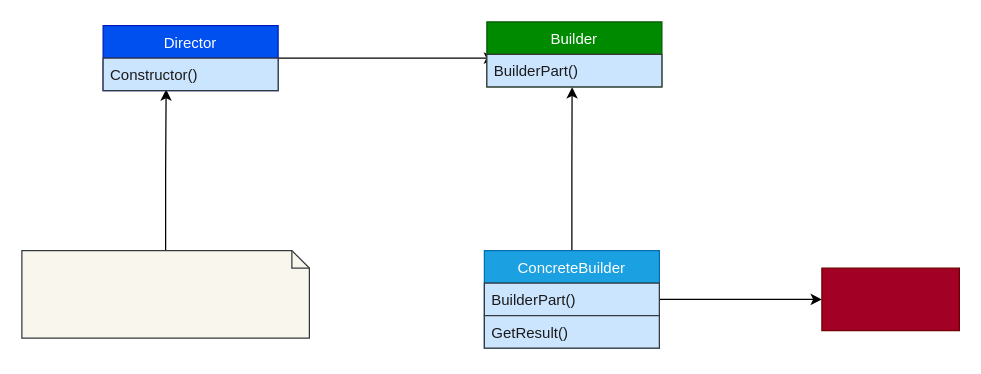
The diagram is 981 pixels wide and 374 high, and some of its shapes have lost their labels. Each missing label, with the centre of its shape:
"For all objects in structure { builder -> BuilderPart() }" goes at [165,293].
"Product" goes at [890,299].
